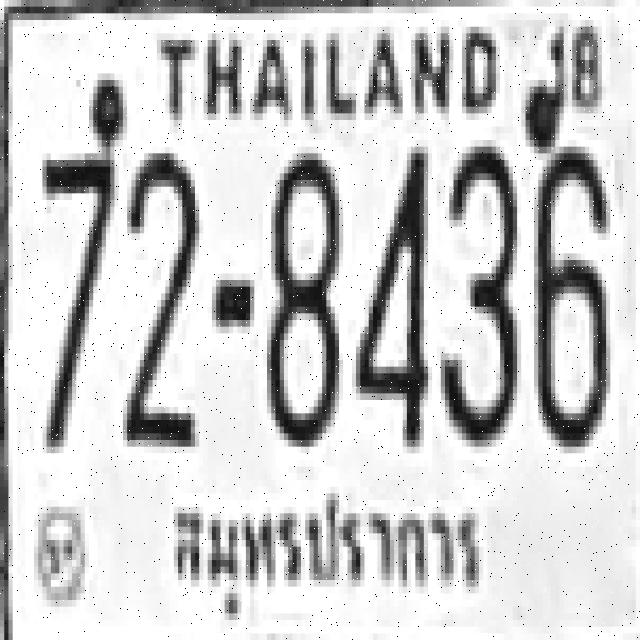2: (121, 150, 197, 443)
3: (439, 140, 515, 440)
4: (352, 140, 424, 440)
6: (530, 140, 606, 440)
7: (39, 146, 114, 446), (39, 147, 114, 353)
8: (263, 147, 339, 440)
SamutPrakan: (167, 486, 493, 622)
